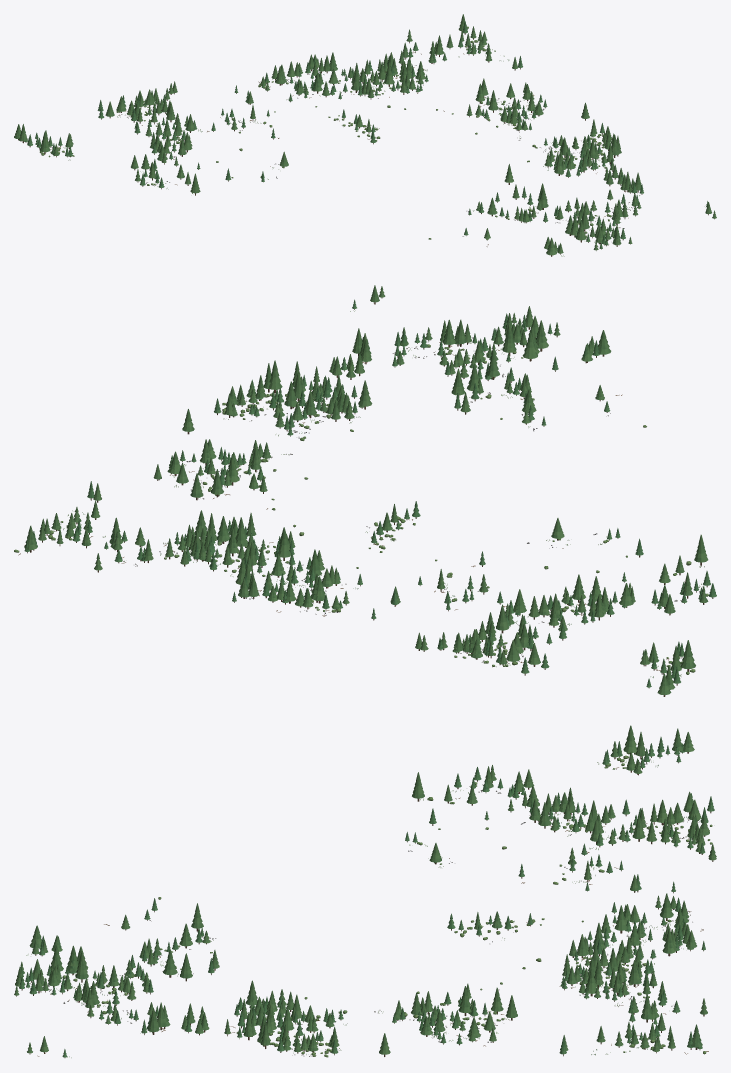
The model's file is Foliage_P3.fbx.
3 views of the same model, one above another, from view 1: azimuth 30°, elevation 25°; view 2: azimuth 150°, elevation 25°; view 3: azimuth 270°, elevation 25° (orthographic). The views are drawn at different scales.
Size of the model in its own units: 61590 by 5661 by 61108.
